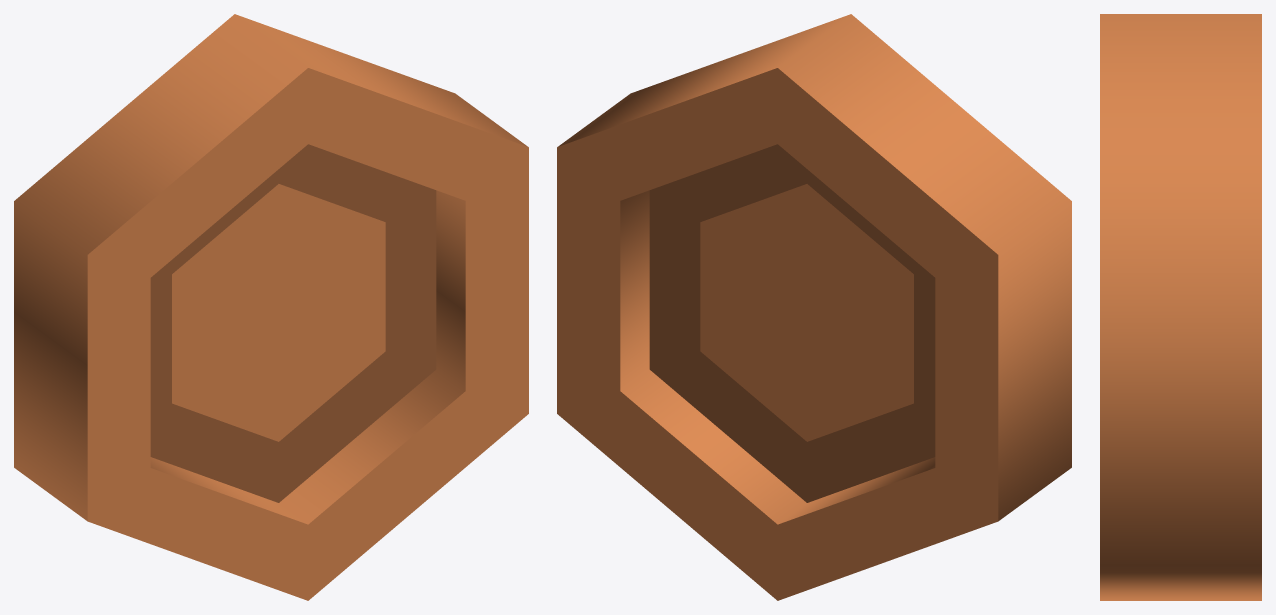
File: coinBronze.fbx
3 views of the same model, side by side, from view 1: azimuth 30°, elevation 25°; view 2: azimuth 150°, elevation 25°; view 3: azimuth 270°, elevation 25° (orthographic). The views are drawn at different scales.
Parts seen in each view (by area): view 1: coinBronze; view 2: coinBronze; view 3: coinBronze.
Boxes of the visible parts, x1,y1,x2,y2 form: coinBronze: [14, 14, 528, 600]; coinBronze: [557, 14, 1071, 600]; coinBronze: [1100, 14, 1261, 600].
Bounding box in the file's own units: 3.46 × 4 × 1.
